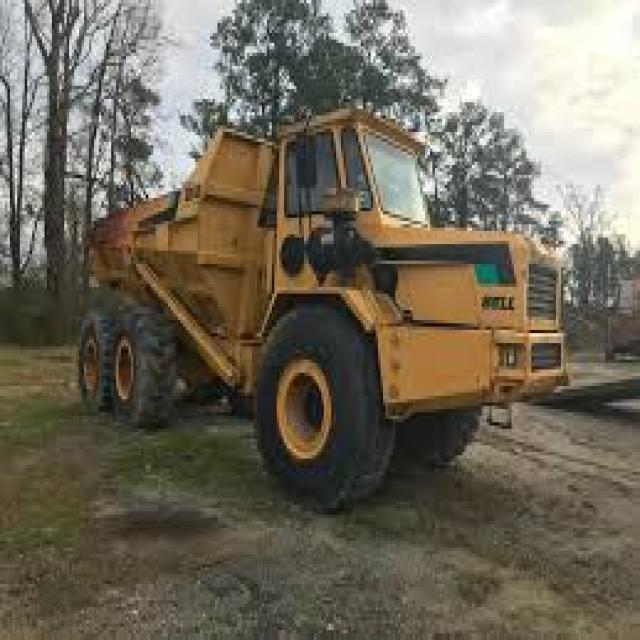dump_truck: (47, 72, 578, 514)
